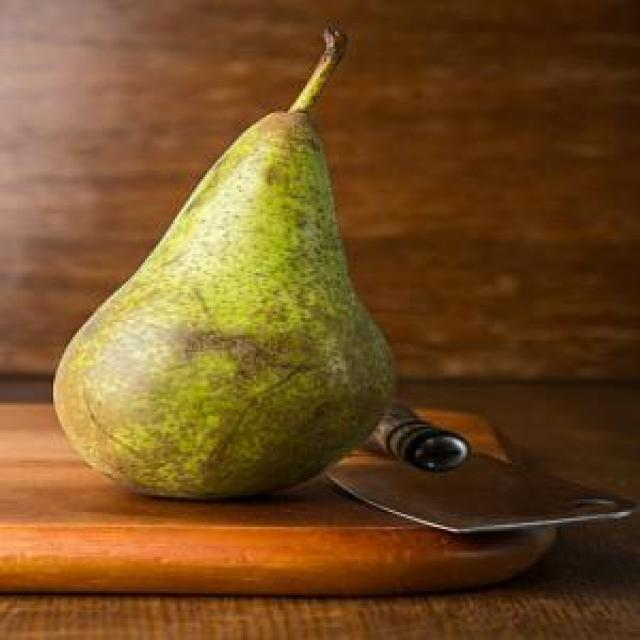knife: (322, 399, 639, 536)
